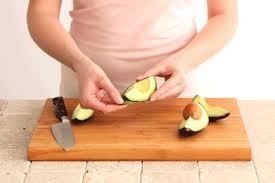Organic: (4, 5, 275, 181)
